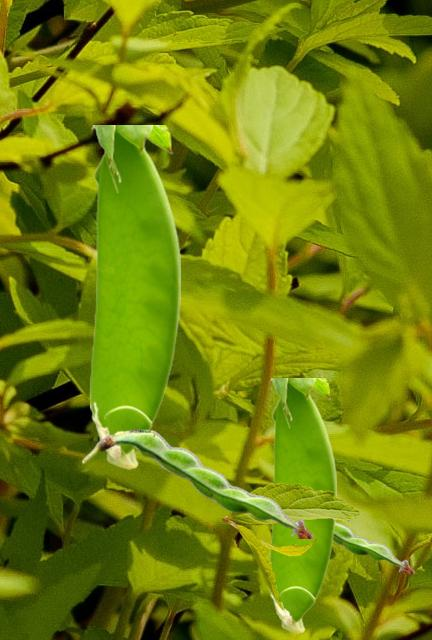pea: (90, 125, 179, 468), (82, 429, 313, 537), (269, 378, 335, 632), (334, 521, 414, 572)
